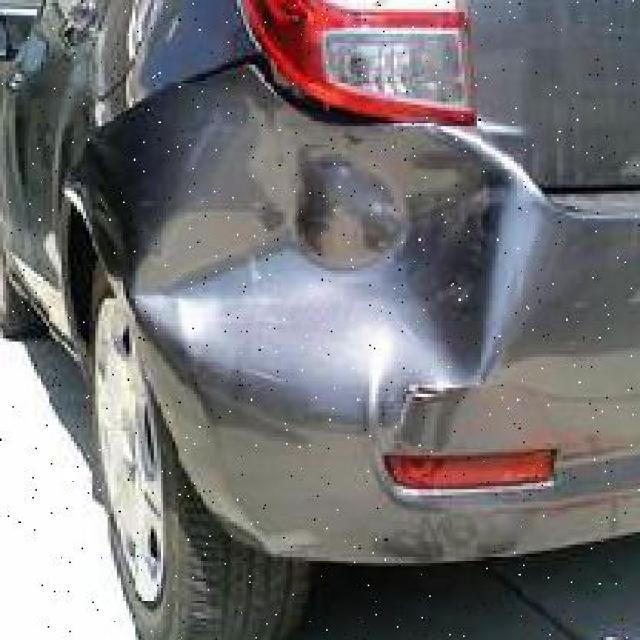car damage: (139, 108, 563, 454), (397, 380, 461, 398)
